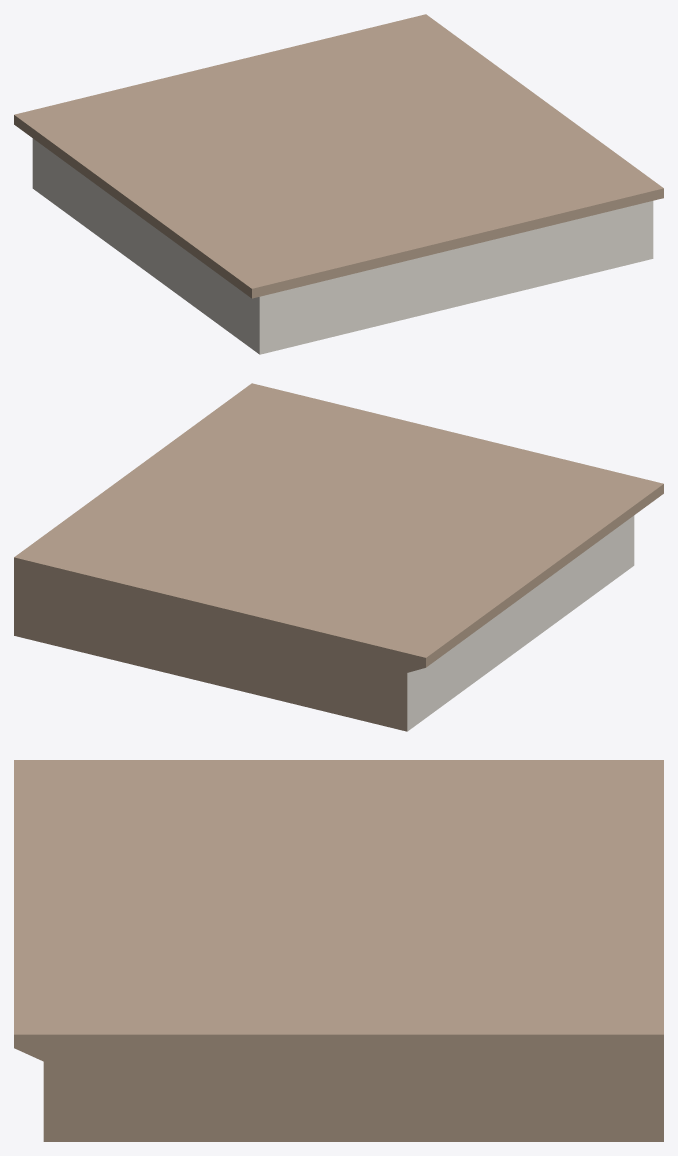
The model's file is Structure_Balcony_2_Edges_Corner.glb.
The picture shows the model from 3 angles, top to bottom: view 1: azimuth 30°, elevation 25°; view 2: azimuth 150°, elevation 25°; view 3: azimuth 270°, elevation 25°; orthographic projection. The views are drawn at different scales.
Visible parts, largest first — view 1: Structure_Balcony_2_Edges_Corner; view 2: Structure_Balcony_2_Edges_Corner; view 3: Structure_Balcony_2_Edges_Corner.
Boxes of the visible parts, x1,y1,x2,y2 form: Structure_Balcony_2_Edges_Corner: [14, 14, 663, 354]; Structure_Balcony_2_Edges_Corner: [14, 383, 663, 731]; Structure_Balcony_2_Edges_Corner: [14, 760, 663, 1141].
Bounding box in the file's own units: 0.495 × 0.09 × 0.495.
